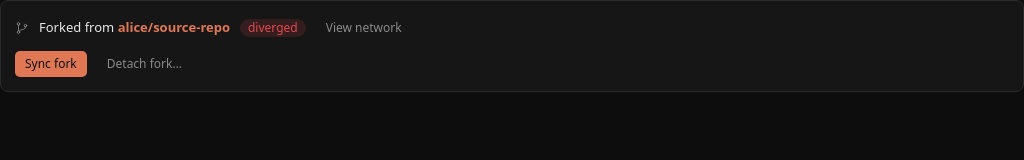
Test: fork status panel › reports DIVERGED refusals — fork changes preserved, nothing overwritten
Expected: the text "diverged" is shown, [240, 19, 306, 37]
Click the button "Sync fork".
click(51, 64)  # box [15, 51, 87, 77]
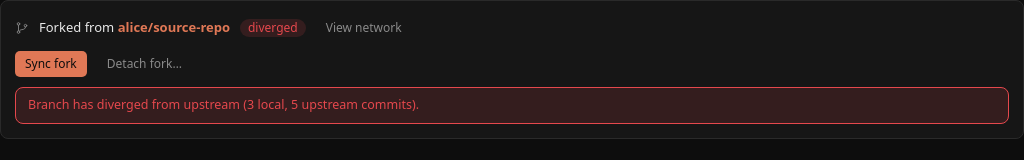
Expected: the message shows "diverged", [28, 96, 419, 113]
